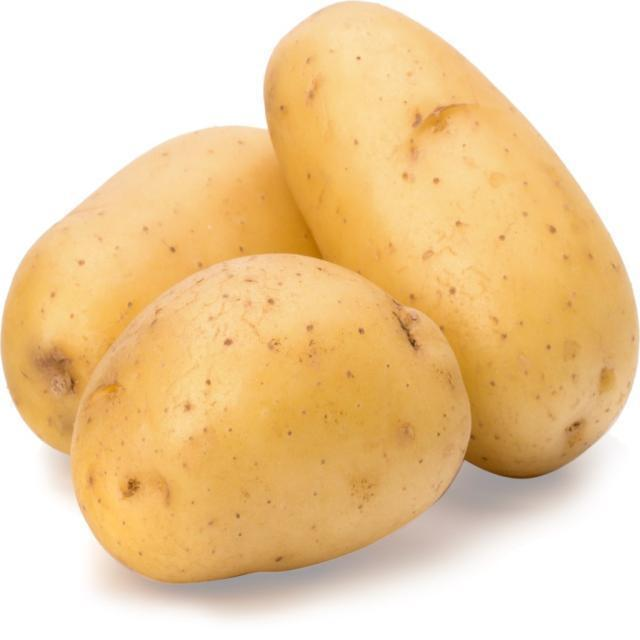Potato: (262, 2, 640, 481), (69, 253, 473, 586), (0, 125, 320, 457)
